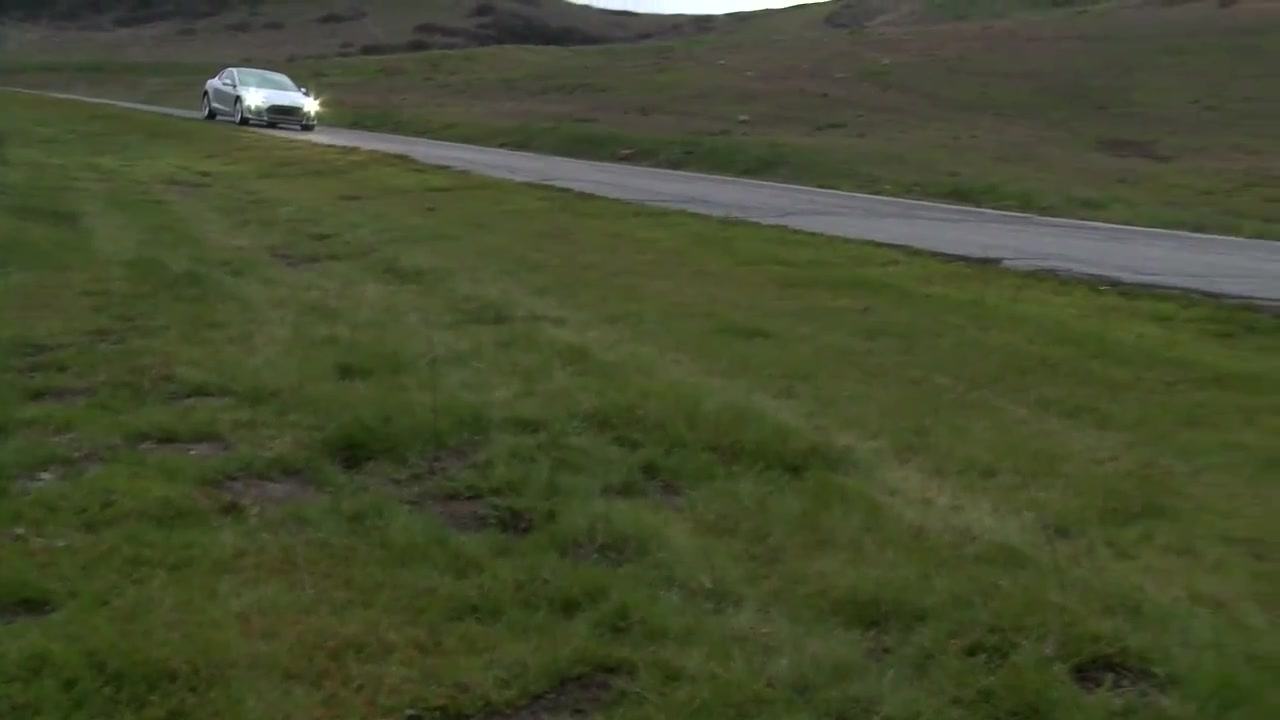car: (202, 67, 321, 132)
